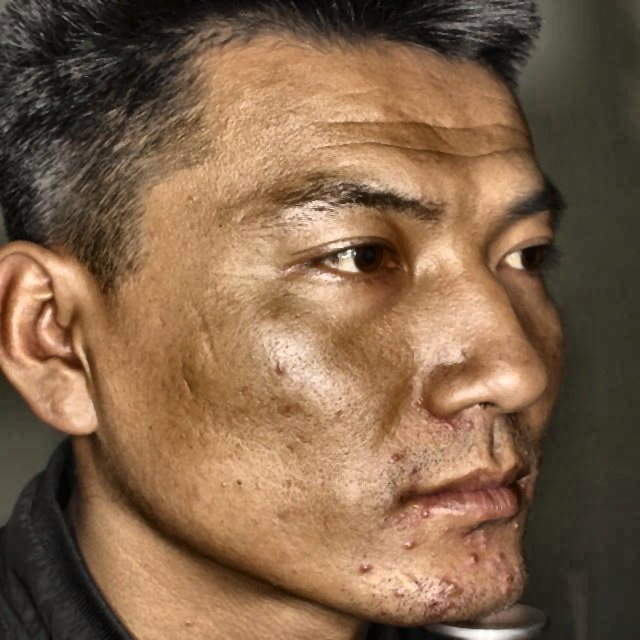pustule: (434, 576, 464, 600), (460, 547, 478, 572), (492, 544, 513, 562), (399, 534, 418, 552), (506, 516, 524, 532), (385, 448, 404, 462), (413, 509, 437, 520), (355, 563, 371, 574)
